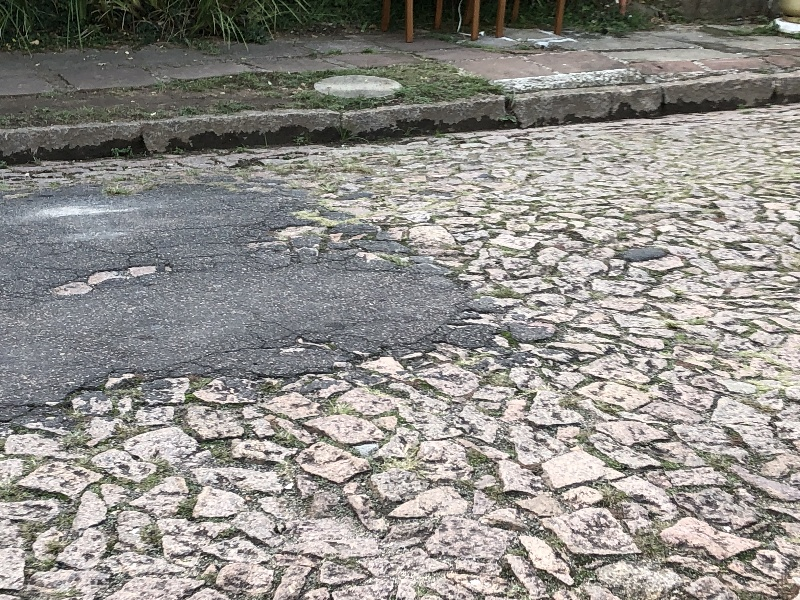v31: (1, 44, 795, 191)
